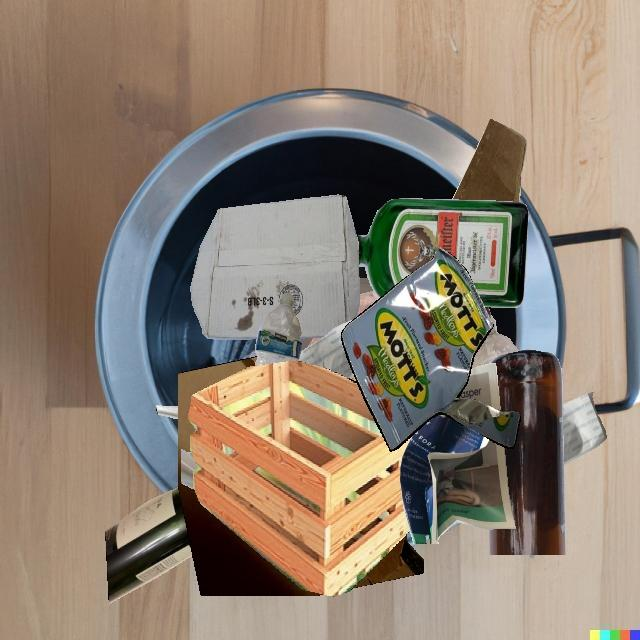biowaste: (322, 304, 373, 379)
cardboard: (178, 356, 324, 596), (190, 194, 360, 339), (452, 119, 526, 203)
combustible waste: (188, 360, 413, 596)
glass: (357, 198, 529, 308), (489, 349, 566, 555), (105, 487, 192, 604)
paper: (400, 414, 515, 544), (299, 319, 355, 379), (562, 392, 607, 465), (181, 448, 198, 489)
plastic: (255, 293, 302, 366), (471, 307, 519, 368), (359, 278, 374, 295), (299, 338, 314, 351)
trash: (341, 247, 520, 451)
